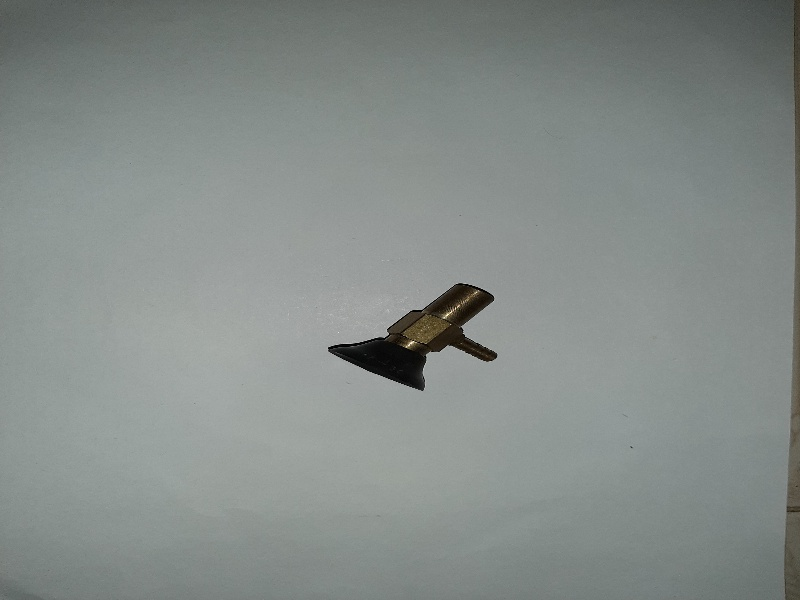Joint Hold: (325, 256, 502, 392)
